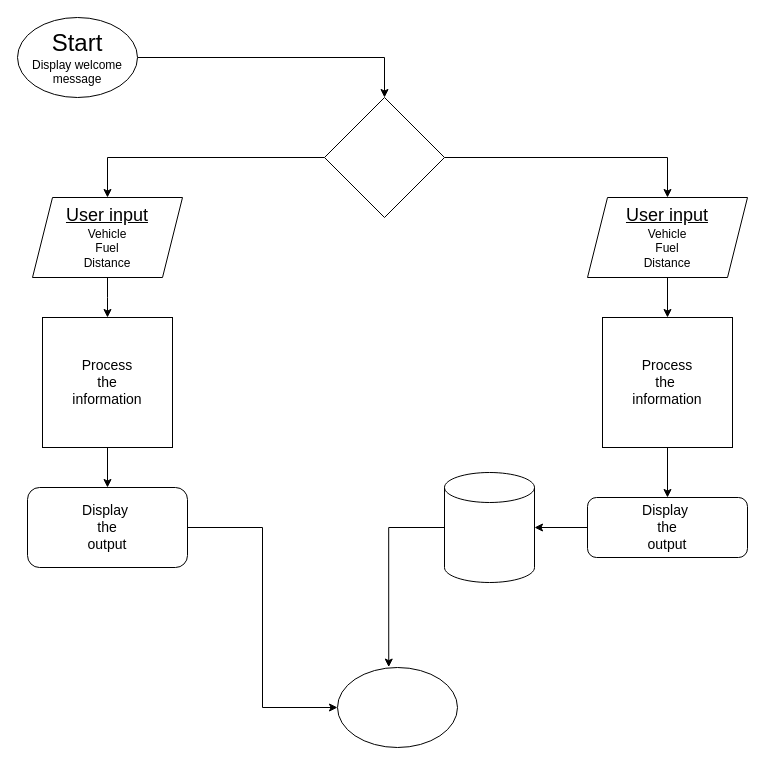
Image size: 765x765. Some labels were removed from this diagram. The centre of each missing label's shape, as x and y in pixels:
End: (397,707)
Guest or User: (384,157)
Store each information processed: (489,527)
